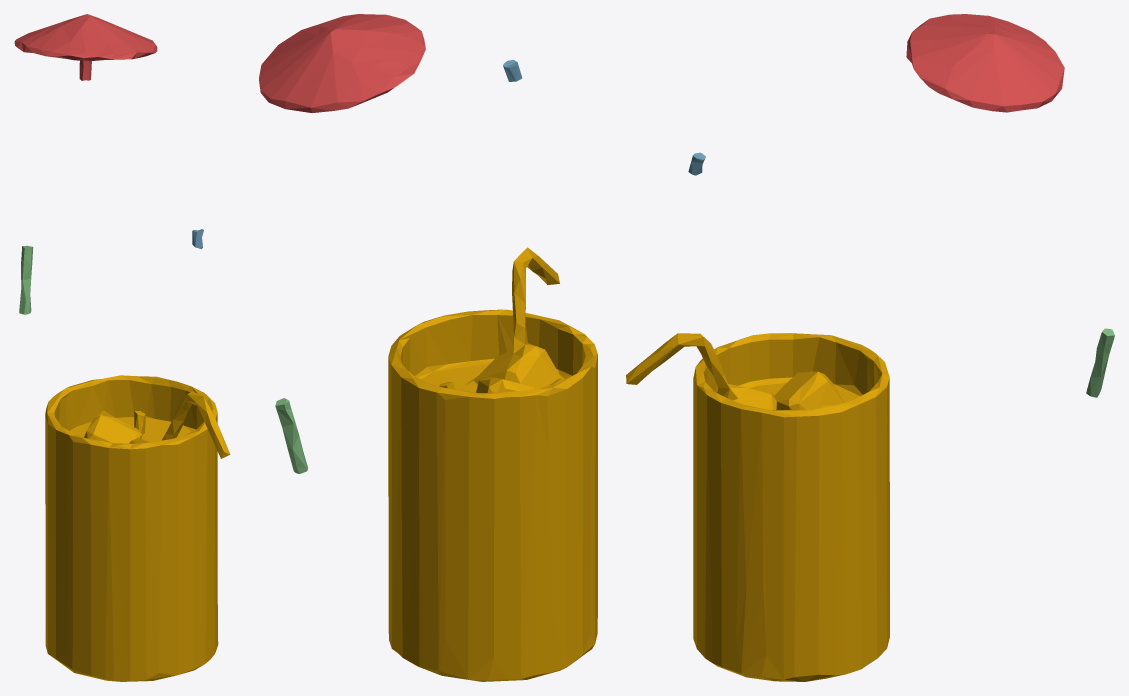
File: fractured_55_4pcs_transformed.glb
The picture shows the model from 3 angles, left to right: view 1: azimuth 30°, elevation 25°; view 2: azimuth 150°, elevation 25°; view 3: azimuth 270°, elevation 25°; orthographic projection. The views are drawn at different scales.
Visible parts, largest first — view 1: piece_0.obj, piece_1.obj, piece_3.obj; view 2: piece_0.obj, piece_1.obj, piece_3.obj; view 3: piece_0.obj, piece_1.obj, piece_3.obj.
Part boxes in pixels (x1=…): piece_0.obj: x1=45, y1=375, x2=230, y2=681; piece_1.obj: x1=14, y1=14, x2=157, y2=80; piece_3.obj: x1=19, y1=245, x2=33, y2=314; piece_0.obj: x1=388, y1=247, x2=597, y2=681; piece_1.obj: x1=259, y1=14, x2=425, y2=112; piece_3.obj: x1=275, y1=398, x2=307, y2=473; piece_0.obj: x1=626, y1=333, x2=889, y2=681; piece_1.obj: x1=906, y1=14, x2=1064, y2=112; piece_3.obj: x1=1086, y1=328, x2=1114, y2=397.
Size of the model in its own units: 0.5255 by 1.6 by 1.12.
